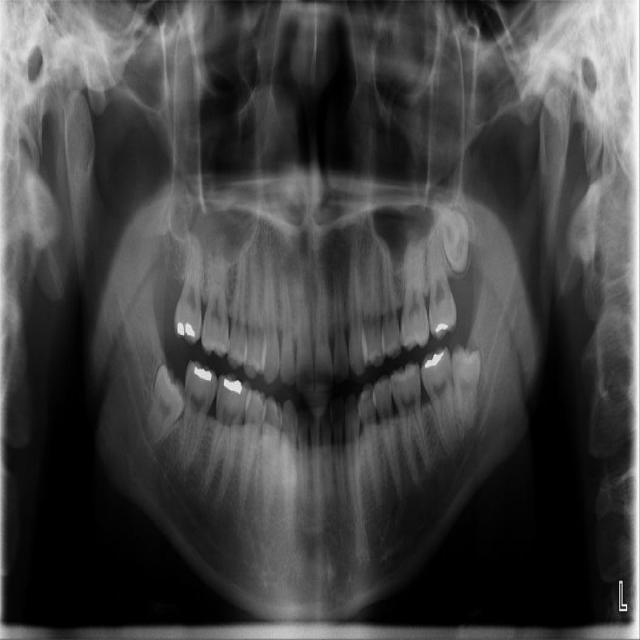Filling: (424, 352, 445, 368), (193, 365, 212, 382), (223, 379, 243, 394), (434, 322, 449, 334), (185, 322, 196, 337), (177, 322, 184, 335)
impacted tooth: (146, 367, 184, 453), (431, 193, 472, 272), (454, 345, 480, 429)
